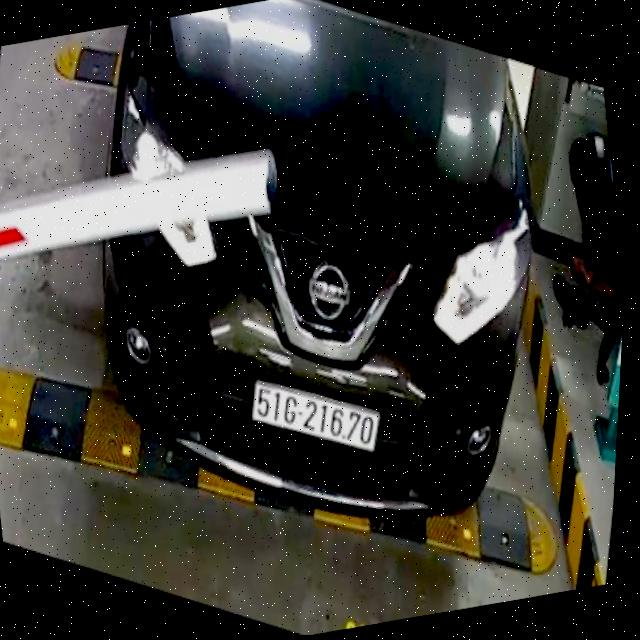car: (89, 0, 549, 515)
plate: (245, 375, 390, 460)
